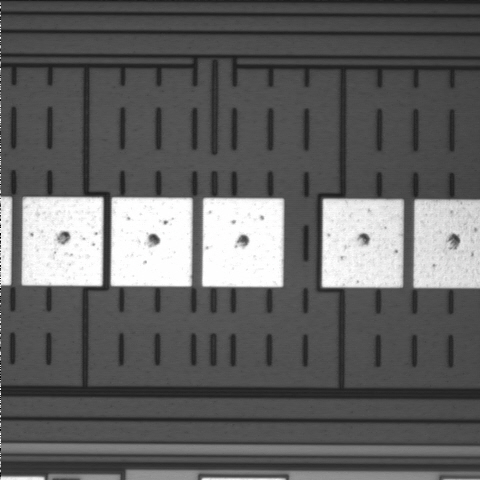pad: (202, 198, 284, 287), (322, 199, 404, 288), (111, 197, 192, 287), (22, 197, 103, 286)
